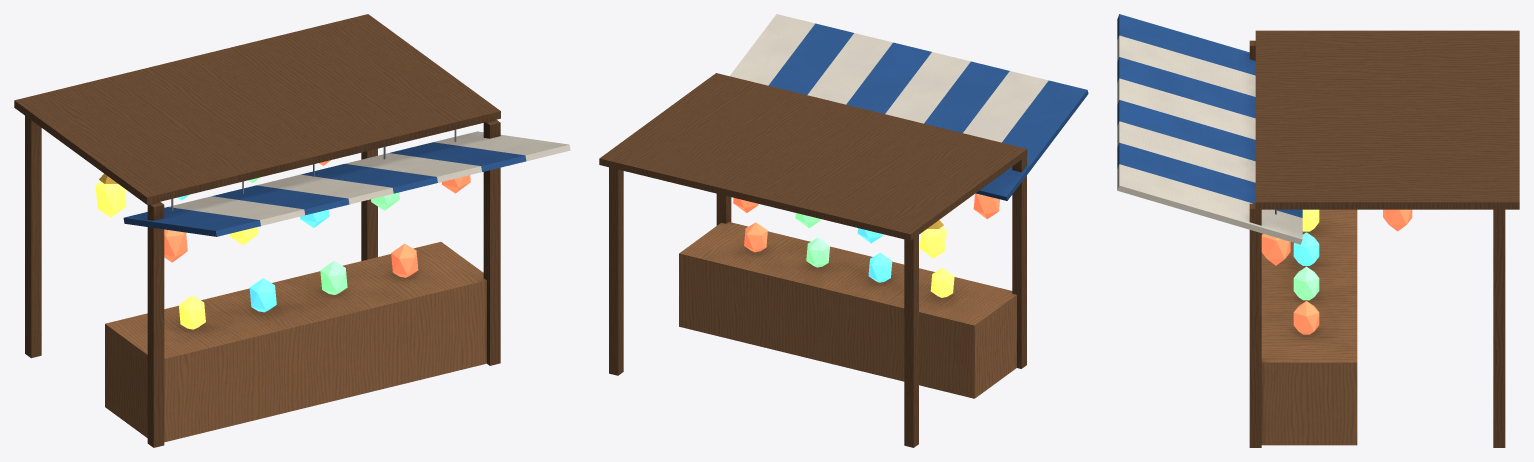
File: basar_lyktor_tex.glb
The picture shows the model from 3 angles, left to right: view 1: azimuth 30°, elevation 25°; view 2: azimuth 150°, elevation 25°; view 3: azimuth 270°, elevation 25°; orthographic projection. The views are drawn at different scales.
Visible parts, largest first — view 1: basar_lyktor; view 2: basar_lyktor; view 3: basar_lyktor.
Boxes of the visible parts, box(x1,y1,x2,y2) form: basar_lyktor: box(14, 14, 570, 447); basar_lyktor: box(599, 14, 1088, 447); basar_lyktor: box(1117, 14, 1519, 447).
Size of the model in its own units: 4 by 2.87 by 3.96.
Materials: 10 (4 with a texture image).
